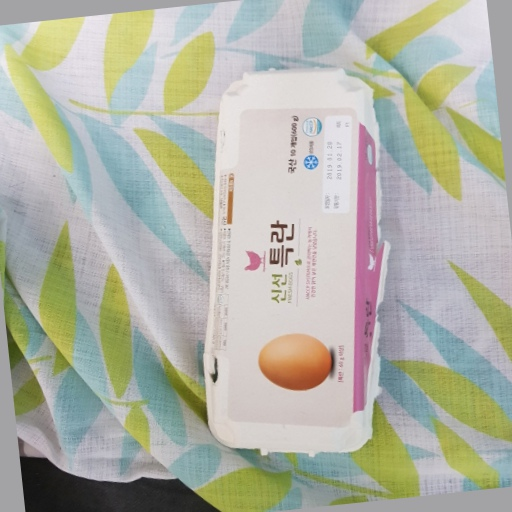Paper_0: (197, 62, 390, 458)
